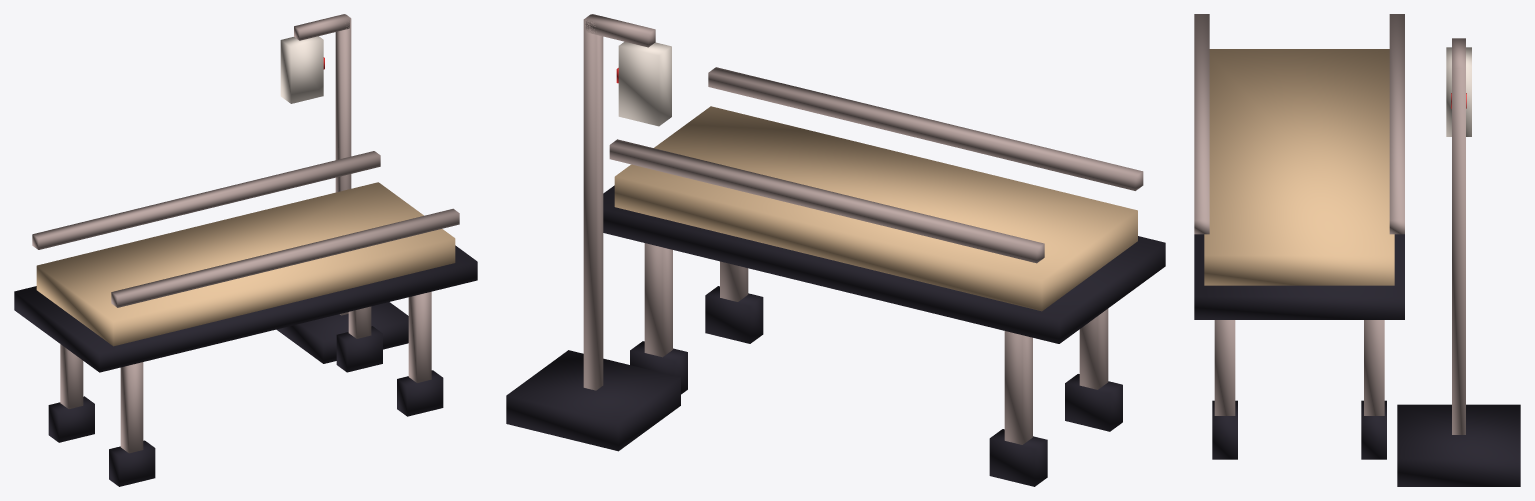
3 views of the same model, side by side, from view 1: azimuth 30°, elevation 25°; view 2: azimuth 150°, elevation 25°; view 3: azimuth 270°, elevation 25° (orthographic). The views are drawn at different scales.
Parts seen in each view (by area): view 1: body; view 2: body; view 3: body.
Part boxes in pixels (x1,y1,x2,y2): body: [14, 14, 477, 486]; body: [506, 14, 1165, 486]; body: [1194, 14, 1520, 486].
Bounding box in the file's own units: 2.2 × 1.69 × 1.27.
